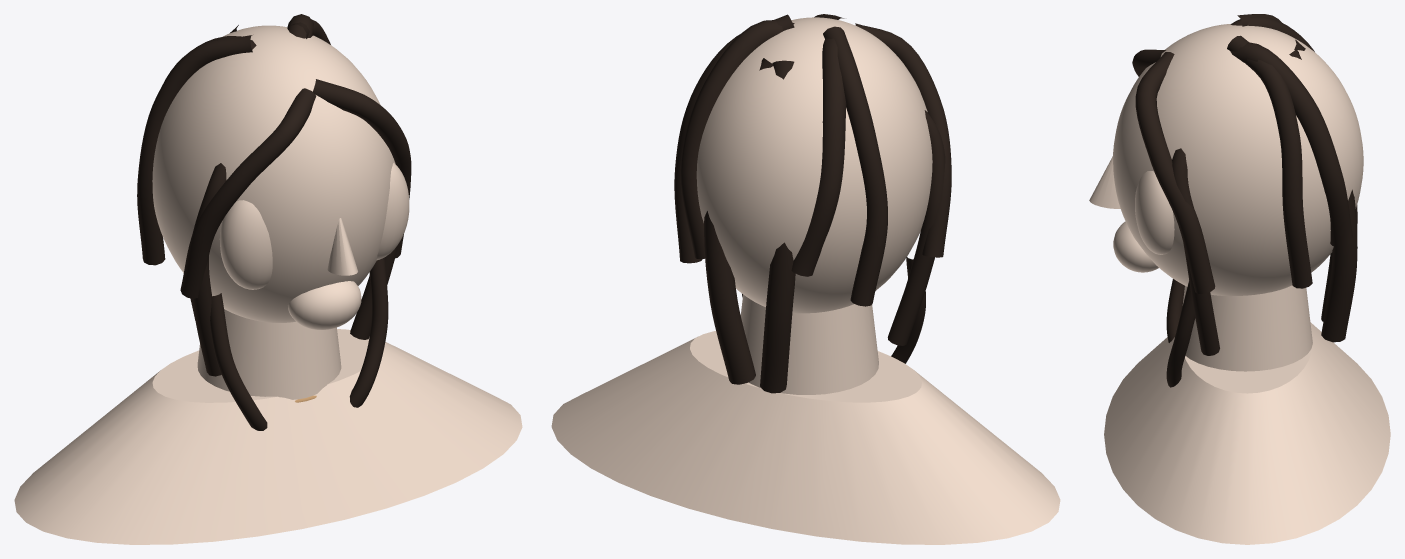
Rendered from aa-professional-hair-hero.glb.
3 views of the same model, side by side, from view 1: azimuth 30°, elevation 25°; view 2: azimuth 150°, elevation 25°; view 3: azimuth 270°, elevation 25° (orthographic). The views are drawn at different scales.
Parts seen in each view (by area): view 1: Shoulder_Pedestal, Head_Cranium, Neck, Hair_Clump_Fringe_Left, Hair_Clump_Volume_L, Cheek_L, Hair_Clump_Fringe_Right, Chin, Hair_Clump_Accent_R, Hair_Clump_Accent_L, Hair_Clump_Temple_L, Cheek_R (+2 smaller); view 2: Shoulder_Pedestal, Head_Cranium, Neck, Hair_Clump_Volume_L, Hair_Clump_Crown_L, Hair_Clump_Crown_R, Hair_Clump_Back_Right, Hair_Clump_Back_Center, Hair_Clump_Fringe_Left, Hair_Clump_Temple_L, Hair_Clump_Volume_R, Hair_Clump_Accent_L; view 3: Shoulder_Pedestal, Head_Cranium, Neck, Hair_Clump_Volume_R, Hair_Clump_Fringe_Right, Hair_Clump_Crown_R, Hair_Clump_Back_Right, Cheek_R, Hair_Clump_Temple_R, Hair_Clump_Accent_R, Chin, Nose_Bridge (+4 smaller).
Part boxes in pixels (box(x1,y1,x2,y2)): Shoulder_Pedestal: box(14, 329, 522, 544); Head_Cranium: box(152, 25, 395, 322); Neck: box(197, 309, 341, 399); Hair_Clump_Fringe_Left: box(180, 88, 316, 298); Hair_Clump_Volume_L: box(137, 35, 252, 265); Cheek_L: box(219, 200, 272, 289); Hair_Clump_Fringe_Right: box(313, 79, 411, 258); Chin: box(288, 281, 361, 329); Hair_Clump_Accent_R: box(349, 257, 388, 407); Hair_Clump_Accent_L: box(210, 293, 267, 430); Hair_Clump_Temple_L: box(192, 163, 226, 376); Cheek_R: box(376, 163, 409, 260); Shoulder_Pedestal: box(551, 331, 1060, 544); Head_Cranium: box(696, 17, 932, 313); Neck: box(740, 294, 878, 394); Hair_Clump_Volume_L: box(823, 26, 887, 306); Hair_Clump_Crown_L: box(791, 38, 846, 276); Hair_Clump_Crown_R: box(680, 20, 794, 258); Hair_Clump_Back_Right: box(704, 58, 773, 384); Hair_Clump_Back_Center: box(760, 60, 795, 393); Hair_Clump_Fringe_Left: box(855, 23, 951, 257); Hair_Clump_Temple_L: box(887, 110, 945, 345); Hair_Clump_Volume_R: box(674, 14, 794, 263); Hair_Clump_Accent_L: box(891, 257, 925, 363); Shoulder_Pedestal: box(1104, 322, 1390, 544); Head_Cranium: box(1113, 24, 1363, 296); Neck: box(1182, 285, 1312, 371); Hair_Clump_Volume_R: box(1227, 35, 1312, 288); Hair_Clump_Fringe_Right: box(1135, 52, 1215, 293); Hair_Clump_Crown_R: box(1230, 42, 1352, 247); Hair_Clump_Back_Right: box(1289, 49, 1357, 342); Cheek_R: box(1135, 171, 1174, 254); Hair_Clump_Temple_R: box(1172, 148, 1219, 355); Hair_Clump_Accent_R: box(1166, 280, 1195, 387); Chin: box(1113, 221, 1158, 272); Nose_Bridge: box(1089, 156, 1120, 208).
Size of the model in its own units: 2.85 by 2.46 by 1.64.
